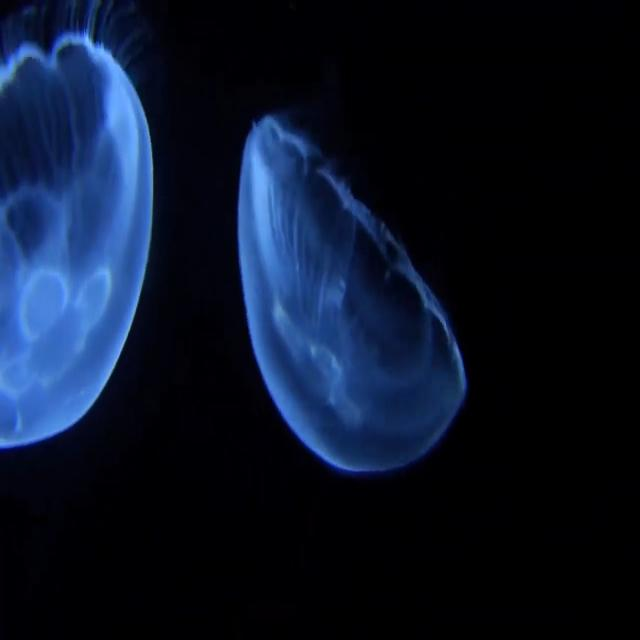Moon-jellyfish: (236, 112, 472, 481), (0, 28, 156, 456)
